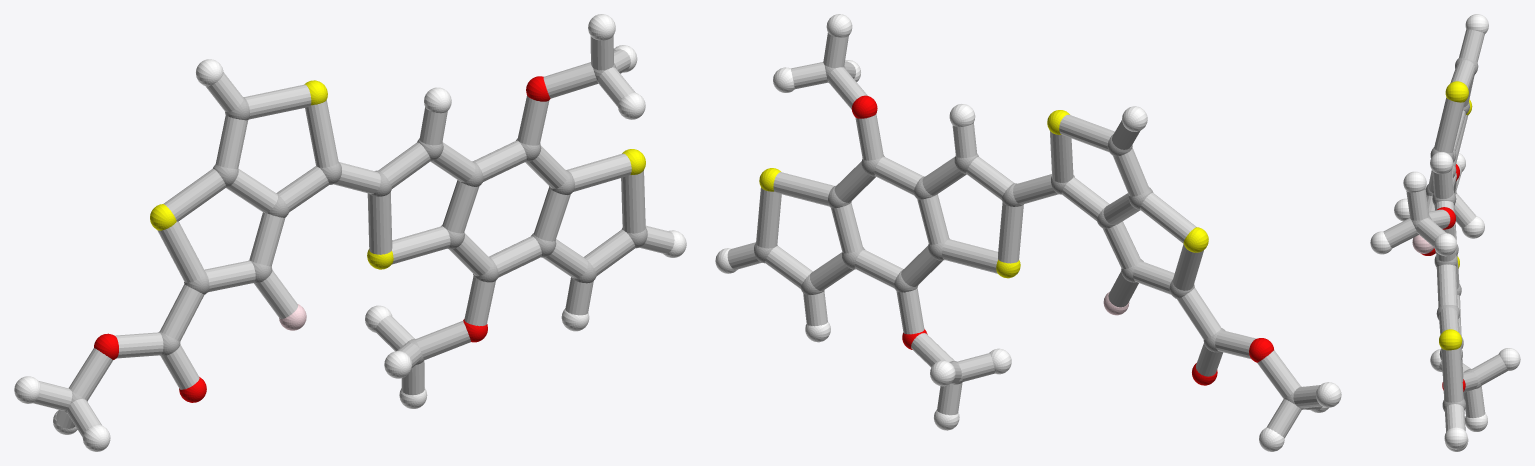
The model's file is color.glb.
The picture shows the model from 3 angles, left to right: view 1: azimuth 30°, elevation 25°; view 2: azimuth 150°, elevation 25°; view 3: azimuth 270°, elevation 25°; orthographic projection. The views are drawn at different scales.
Parts seen in each view (by area): view 1: grp15205, grp8689, grp1, grp13395, grp7241; view 2: grp15205, grp8689, grp1, grp7241, grp13395; view 3: grp15205, grp8689, grp1, grp7241, grp13395, grp14843.
Boxes of the visible parts, x1=… form: grp15205: x1=33, y1=35, x2=674, y2=437; grp8689: x1=14, y1=14, x2=686, y2=451; grp1: x1=64, y1=63, x2=647, y2=413; grp13395: x1=94, y1=76, x2=550, y2=402; grp7241: x1=150, y1=80, x2=645, y2=269; grp15205: x1=727, y1=33, x2=1322, y2=438; grp8689: x1=715, y1=14, x2=1341, y2=451; grp1: x1=754, y1=65, x2=1303, y2=409; grp7241: x1=759, y1=110, x2=1208, y2=278; grp13395: x1=851, y1=95, x2=1273, y2=385; grp15205: x1=1383, y1=29, x2=1507, y2=431; grp8689: x1=1370, y1=14, x2=1520, y2=451; grp1: x1=1411, y1=57, x2=1481, y2=411; grp7241: x1=1439, y1=81, x2=1472, y2=350; grp13395: x1=1421, y1=164, x2=1465, y2=391; grp14843: x1=1412, y1=235, x2=1433, y2=253.
Bounding box in the file's own units: 16.68 × 9.44 × 3.86.
